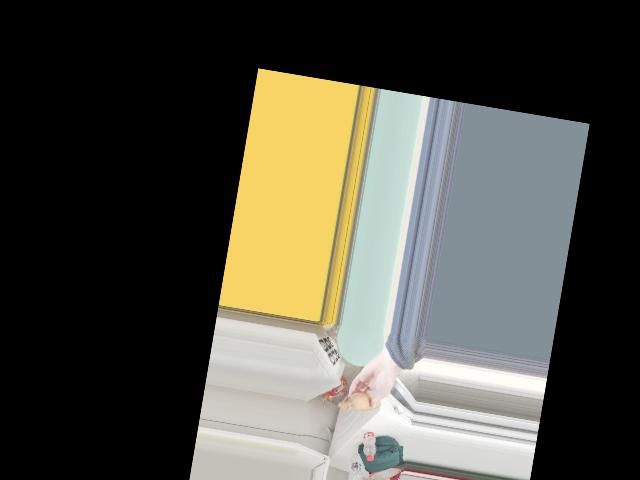sweet_potato: (345, 391, 379, 414)
